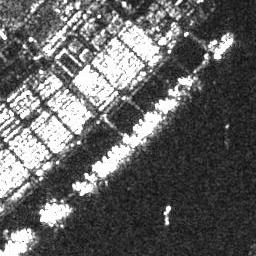ship: (212, 35, 234, 59), (162, 202, 173, 225), (78, 182, 94, 196)
